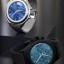watch: (24, 37, 59, 64), (5, 0, 31, 25)
